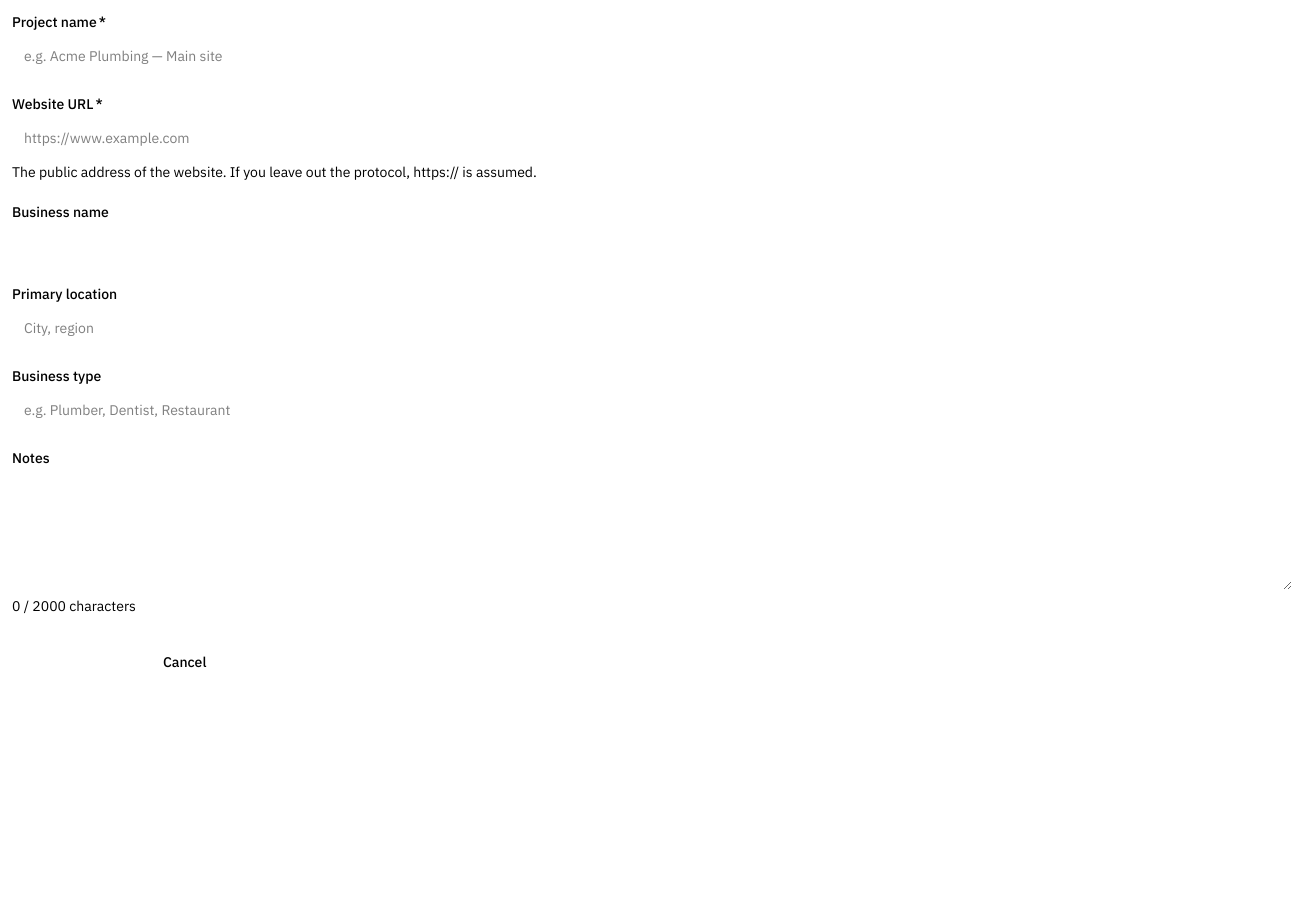
it: ProjectForm › previews the normalized URL when the protocol is omitted
Type "www.acme.com/services" into the field labelled "Website URL*" at (652, 138), box [12,120,1292,156]
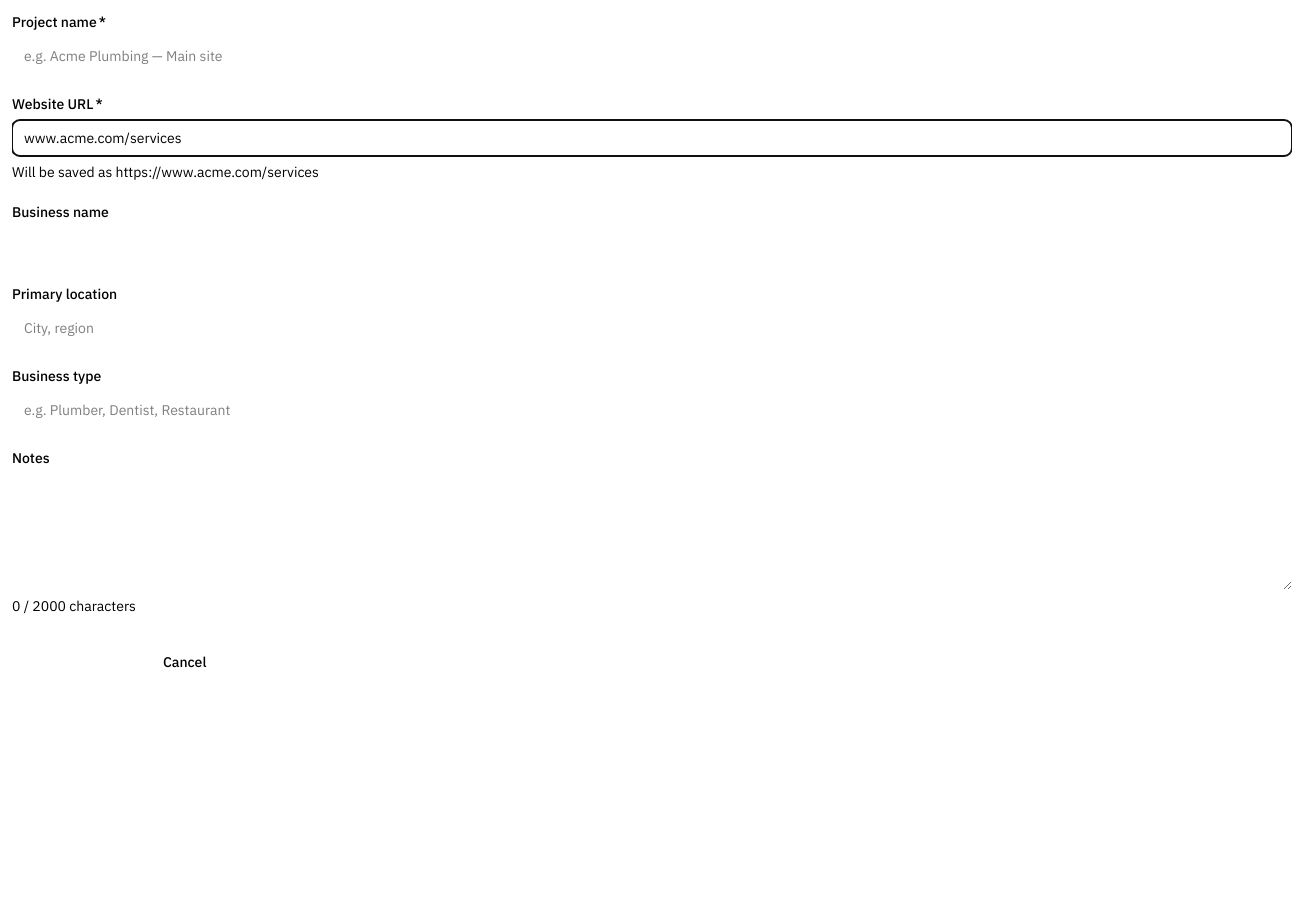
Now the text "Will be saved as https://www.acme.com/services" is shown, box [12,163,319,181]
